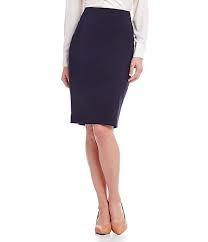F_tailored skirt: (65, 5, 135, 127)
